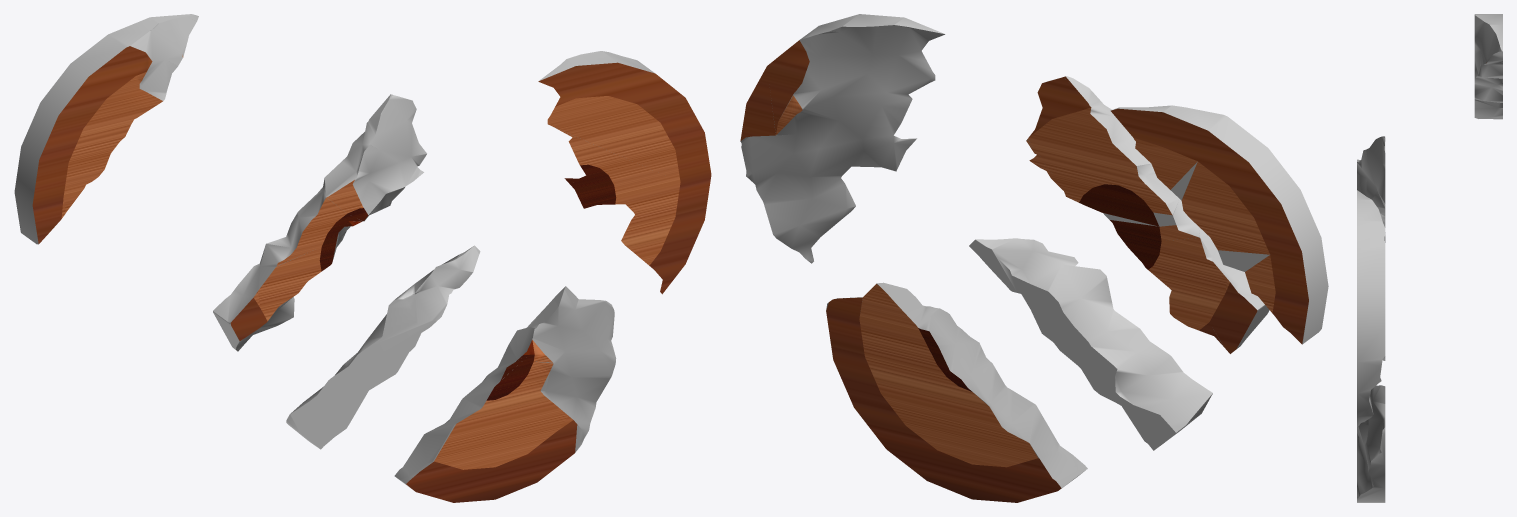
File: shattered_target.fbx
3 renders of one model, left to right at view 1: azimuth 30°, elevation 25°; view 2: azimuth 150°, elevation 25°; view 3: azimuth 270°, elevation 25°, orthographic. The views are drawn at different scales.
Parts seen in each view (by area): view 1: shard2, shard1, shard4, shard3, shard5; view 2: shard2, shard1, shard4, shard3, shard5; view 3: shard1, shard4, shard2, shard3.
Part boxes in pixels (box(x1,y1,x2,y2)): shard2: box(394, 286, 616, 502); shard1: box(538, 51, 711, 294); shard4: box(14, 14, 198, 244); shard3: box(213, 94, 426, 351); shard5: box(286, 245, 480, 449); shard2: box(826, 282, 1087, 502); shard1: box(740, 14, 945, 263); shard4: box(1110, 105, 1328, 344); shard3: box(1026, 76, 1269, 353); shard5: box(969, 238, 1212, 450); shard1: box(1357, 190, 1385, 426); shard4: box(1474, 14, 1502, 119); shard2: box(1357, 385, 1385, 502); shard3: box(1357, 136, 1385, 242).
Size of the model in its own units: 5.44 by 4.09 by 1.46.
